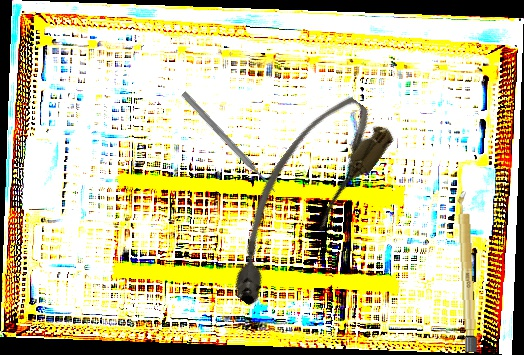Cannula: (198, 85, 400, 316)
Pusher: (180, 90, 278, 195)
Scalpel Handle: (456, 190, 479, 353)
